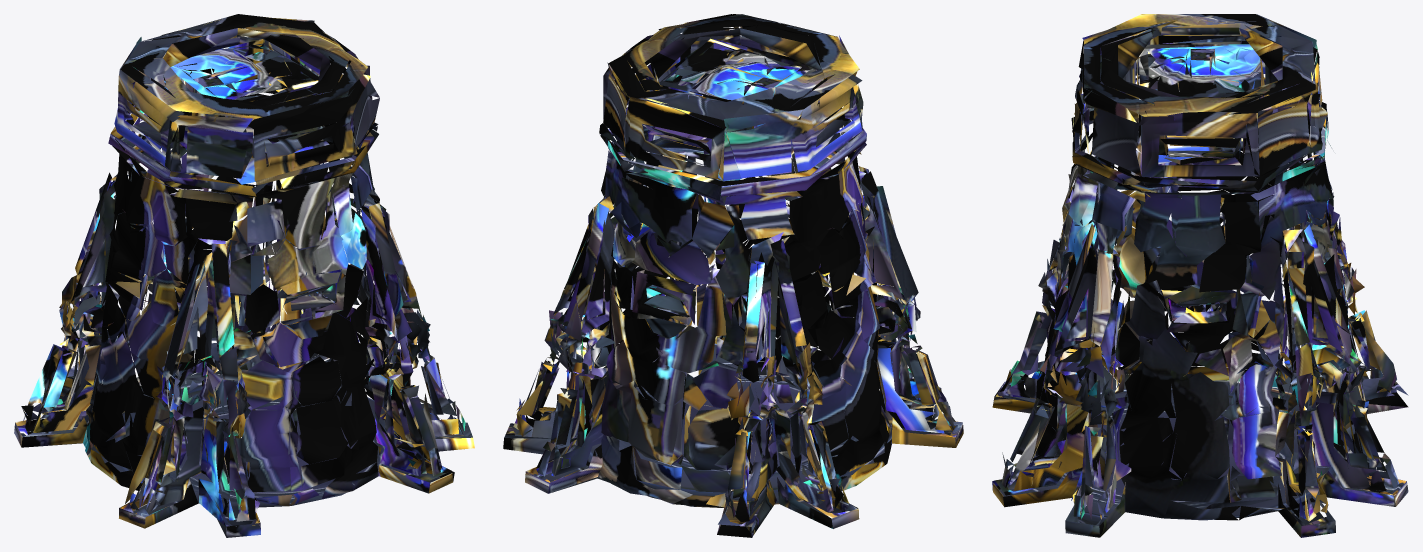
File: tower_barricade_3d_LOD2.fbx
The picture shows the model from 3 angles, left to right: view 1: azimuth 30°, elevation 25°; view 2: azimuth 150°, elevation 25°; view 3: azimuth 270°, elevation 25°; orthographic projection. The views are drawn at different scales.
Parts seen in each view (by area): view 1: Mesh1.0; view 2: Mesh1.0; view 3: Mesh1.0.
Boxes of the visible parts, x1=… form: Mesh1.0: x1=14, y1=14, x2=474, y2=537; Mesh1.0: x1=503, y1=14, x2=963, y2=537; Mesh1.0: x1=992, y1=14, x2=1408, y2=537.
Size of the model in its own units: 120 by 127 by 121.
